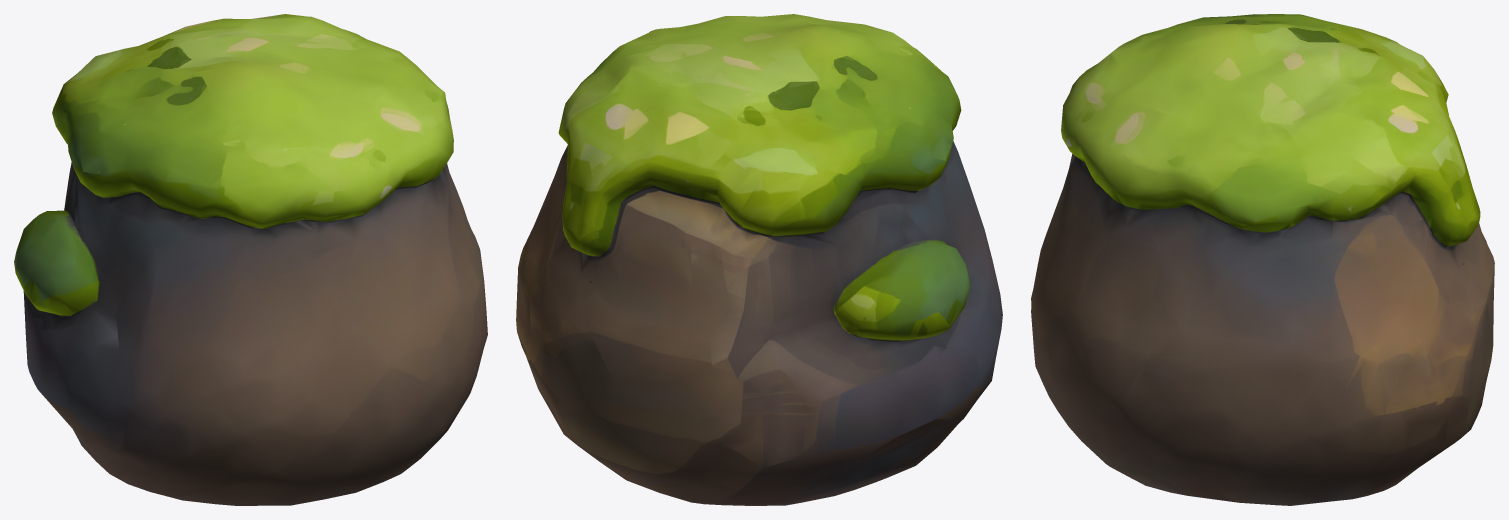
Rendered from boulder_mossy_hunyuan_3k.glb.
The picture shows the model from 3 angles, left to right: view 1: azimuth 30°, elevation 25°; view 2: azimuth 150°, elevation 25°; view 3: azimuth 270°, elevation 25°; orthographic projection.
Parts seen in each view (by area): view 1: boulder_mossy; view 2: boulder_mossy; view 3: boulder_mossy.
Boxes of the visible parts, <box> form: boulder_mossy: <box>14,14,487,505</box>; boulder_mossy: <box>516,14,1002,505</box>; boulder_mossy: <box>1031,14,1494,505</box>.
Bounding box in the file's own units: 1.25 × 1.2 × 1.23.
1 material, 1 textured.
